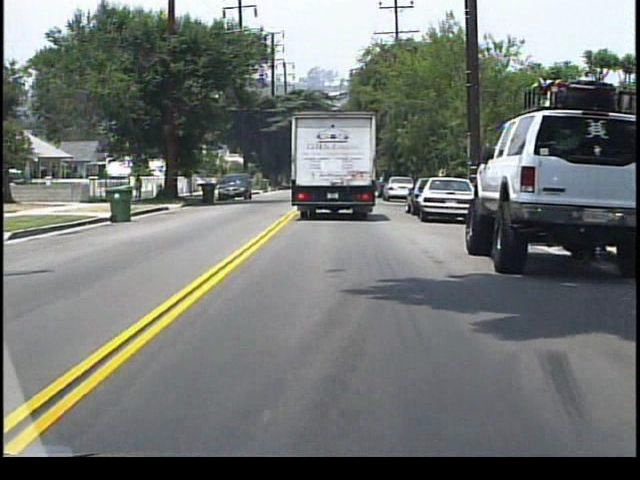person: (134, 172, 145, 201)
